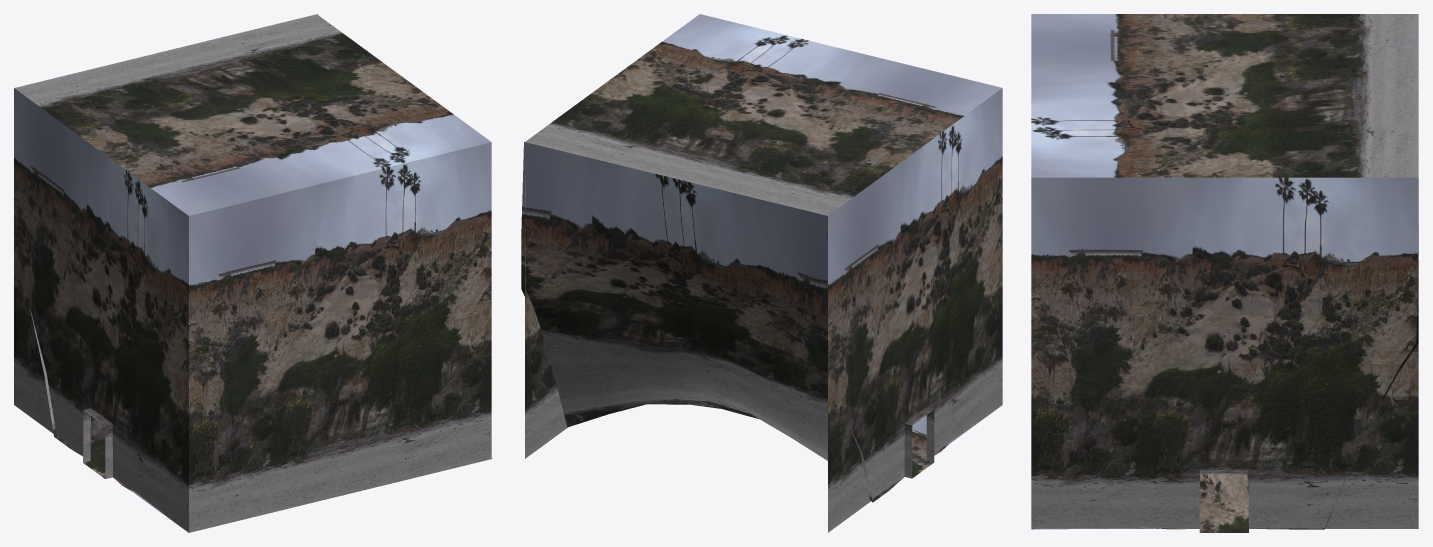
The model's file is Beach_Rm.fbx.
3 renders of one model, left to right at view 1: azimuth 30°, elevation 25°; view 2: azimuth 150°, elevation 25°; view 3: azimuth 270°, elevation 25°, orthographic. The views are drawn at different scales.
Visible parts, largest first — view 1: P_Beach_Rm; view 2: P_Beach_Rm; view 3: P_Beach_Rm.
Part boxes in pixels (bbox=[...]): P_Beach_Rm: bbox=[14, 14, 492, 532]; P_Beach_Rm: bbox=[521, 14, 1002, 532]; P_Beach_Rm: bbox=[1031, 14, 1418, 532].
Bounding box in the file's own units: 29.2 × 27.84 × 27.81.
